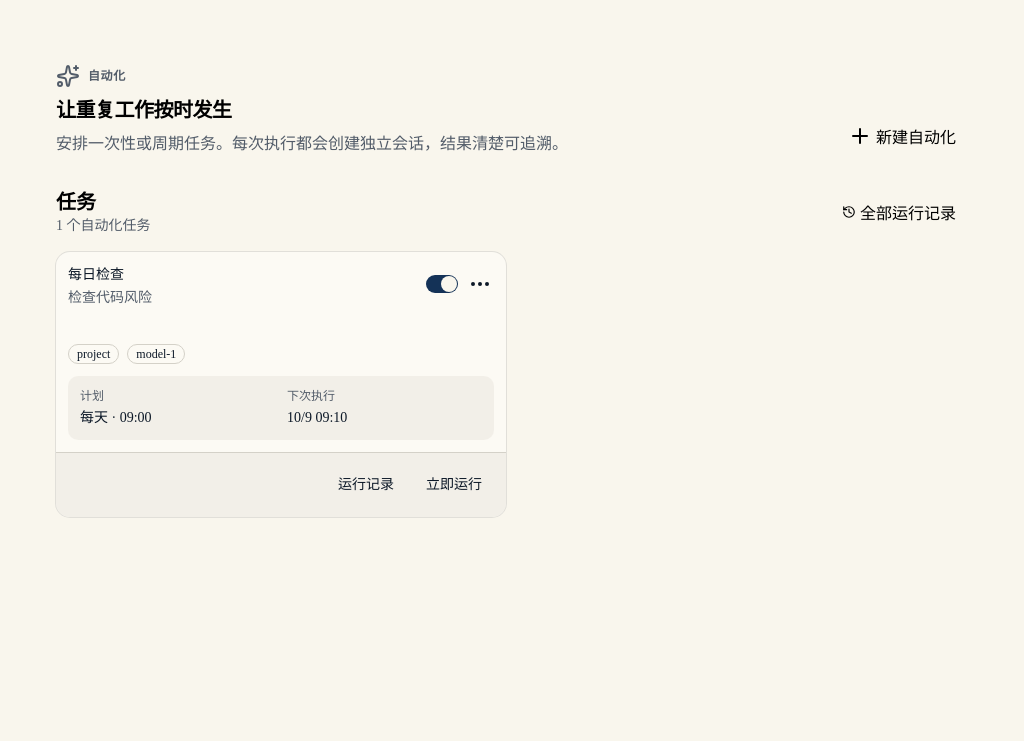
Scenario: automationsPage › 创建任务时计划标签明确标识当前选项
Click the button "新建自动化".
click(902, 136)  # box [836,116,968,156]
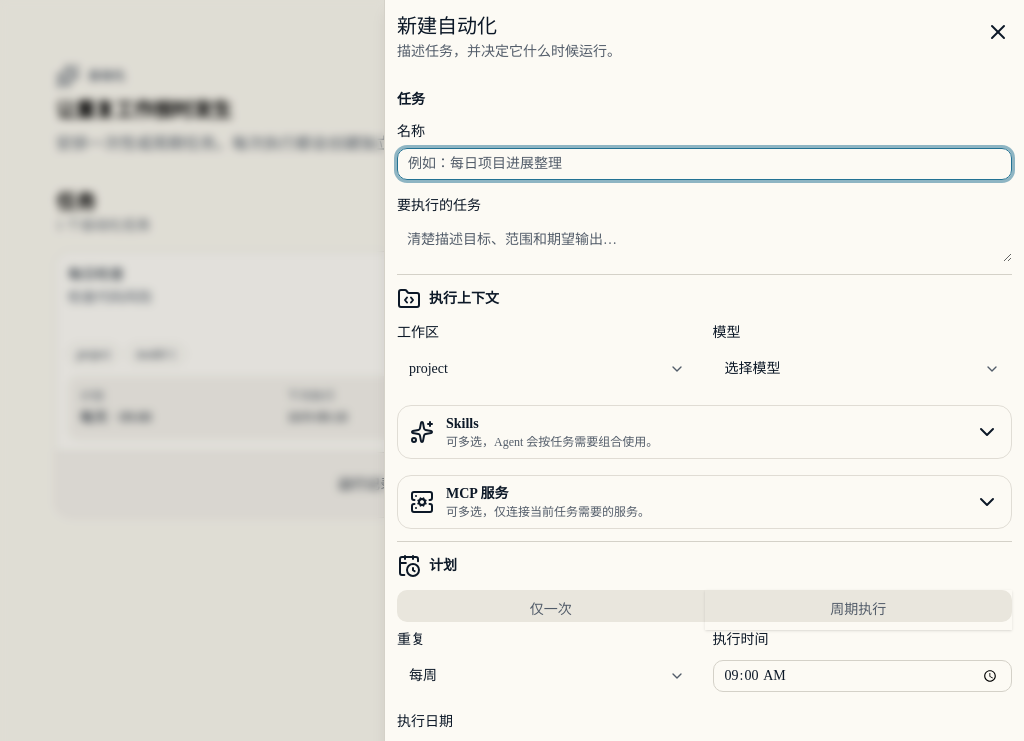
Click the tab "仅一次".
click(551, 610)  # box [397,590,704,630]
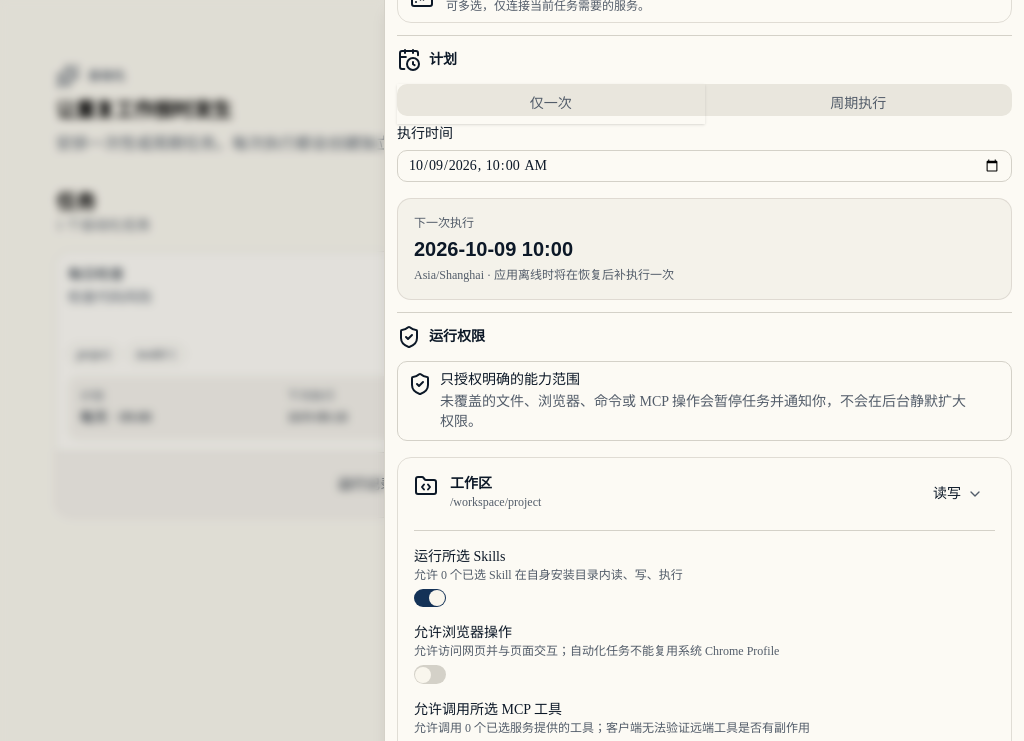
Result: the field named "一次性执行时间" is shown at [397,150,1012,182]
